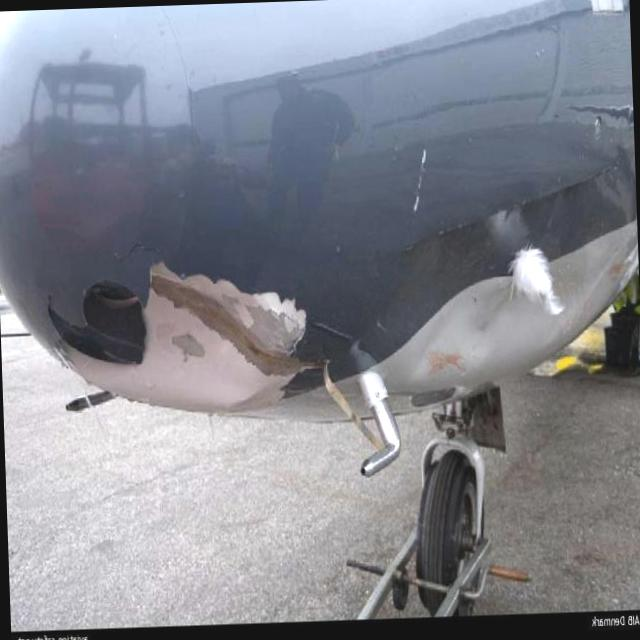crack: (103, 238, 164, 266)
dent: (392, 302, 506, 390)
